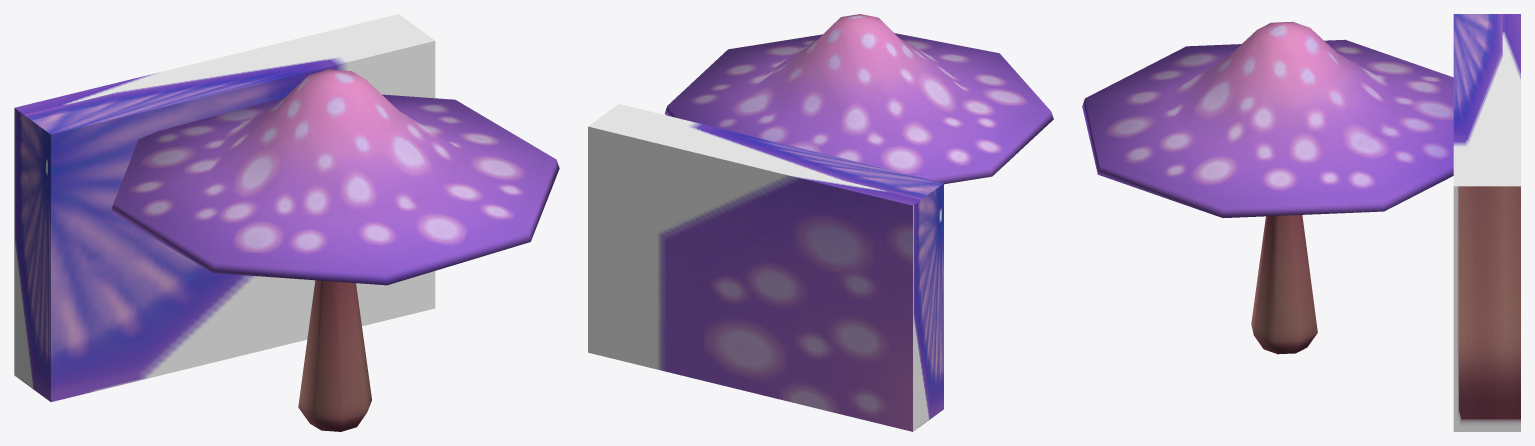
Rendered from MSH_A.fbx.
The picture shows the model from 3 angles, left to right: view 1: azimuth 30°, elevation 25°; view 2: azimuth 150°, elevation 25°; view 3: azimuth 270°, elevation 25°; orthographic projection. The views are drawn at different scales.
Parts seen in each view (by area): view 1: mushroomA, pCube1; view 2: pCube1, mushroomA; view 3: mushroomA, pCube1.
Part boxes in pixels (x1,y1,x2,y2): mushroomA: (110, 69, 559, 431); pCube1: (14, 14, 435, 401); pCube1: (588, 104, 943, 431); mushroomA: (664, 14, 1053, 184); mushroomA: (1082, 21, 1453, 354); pCube1: (1453, 14, 1520, 431).
Bounding box in the file's own units: 154 × 133 × 165.
